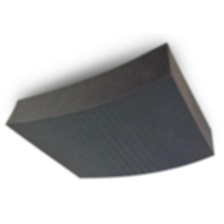foam_box: (3, 39, 217, 182)
